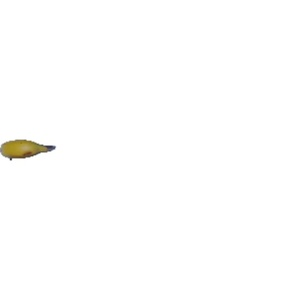banana: (1, 135, 58, 165)
